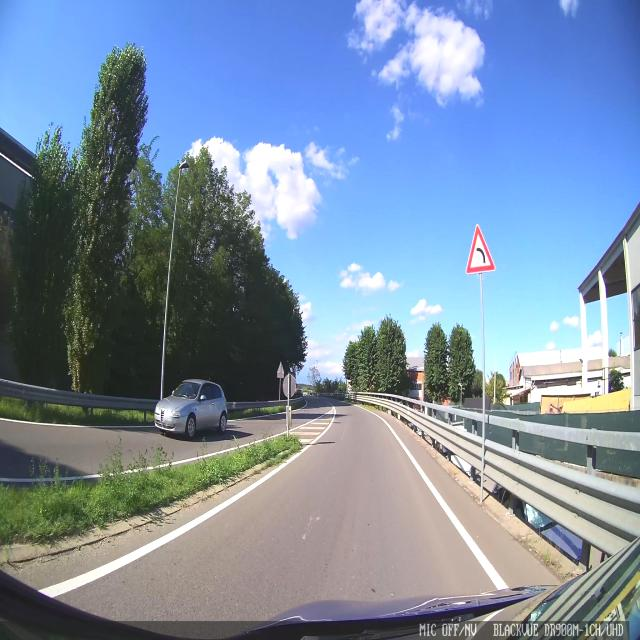car: (154, 377, 228, 441)
